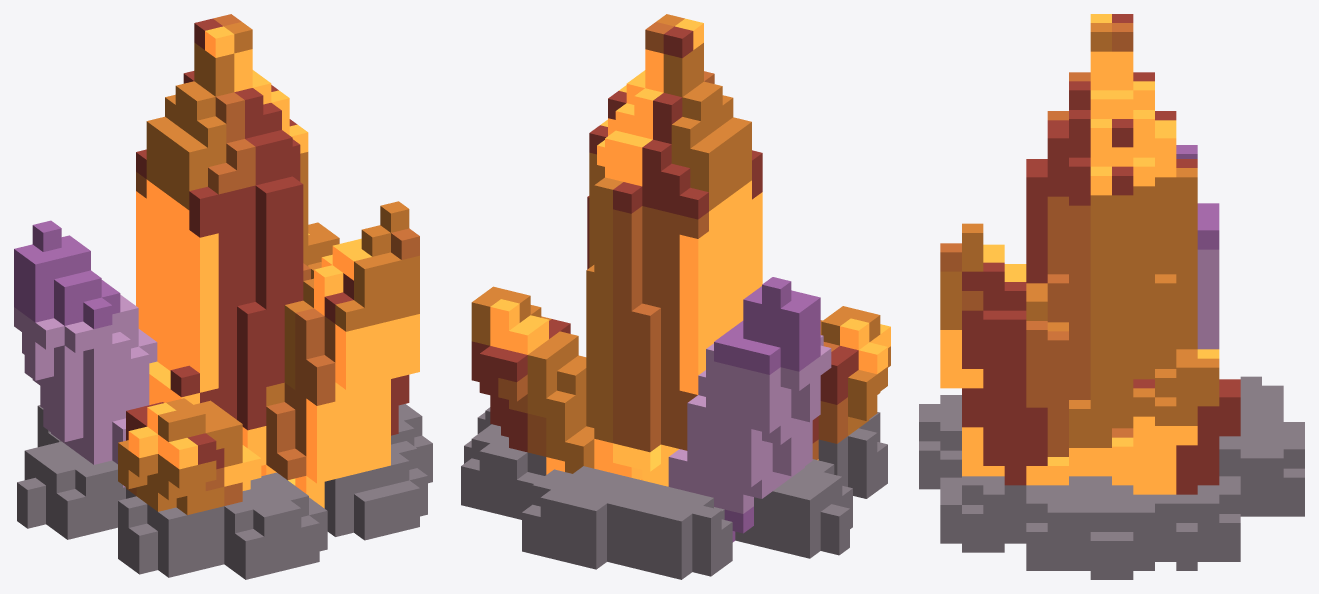
Rendered from ember_crystals.glb.
3 renders of one model, left to right at view 1: azimuth 30°, elevation 25°; view 2: azimuth 150°, elevation 25°; view 3: azimuth 270°, elevation 25°, orthographic.
Size of the model in its own units: 0.8333 by 1 by 0.75.
